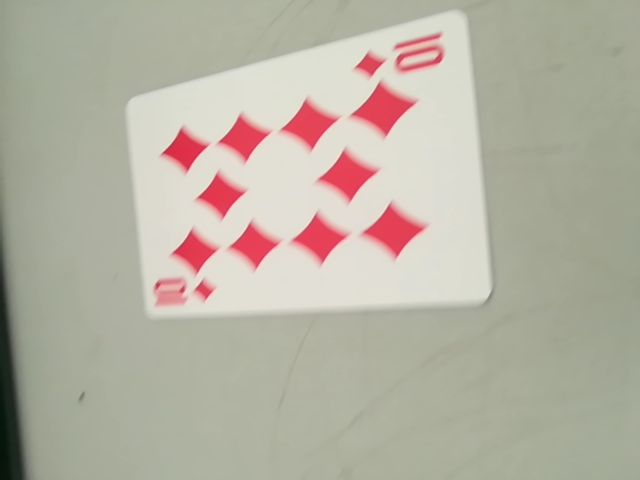fk 10: (356, 27, 456, 85), (148, 266, 222, 318)
